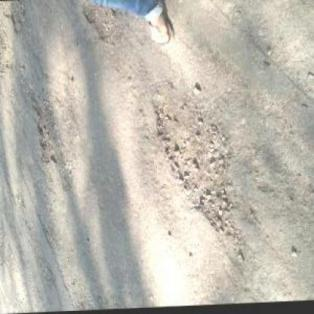Hueco: (149, 89, 243, 246), (30, 88, 63, 167), (81, 1, 119, 42)
